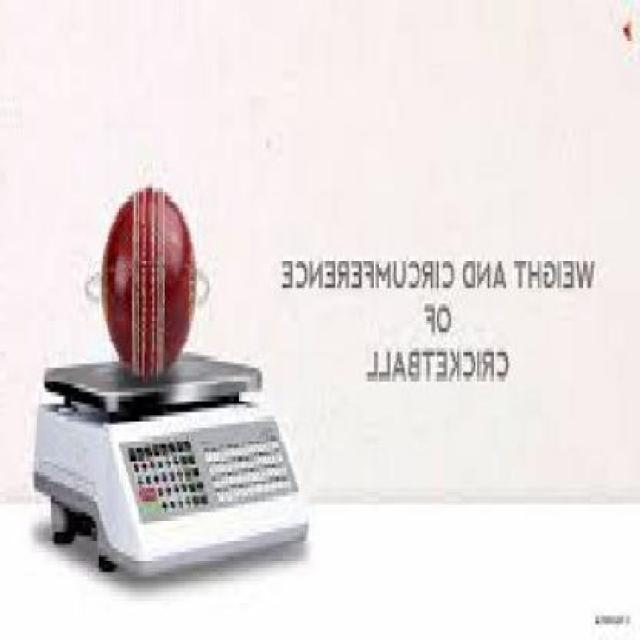ball: (54, 146, 252, 394)
